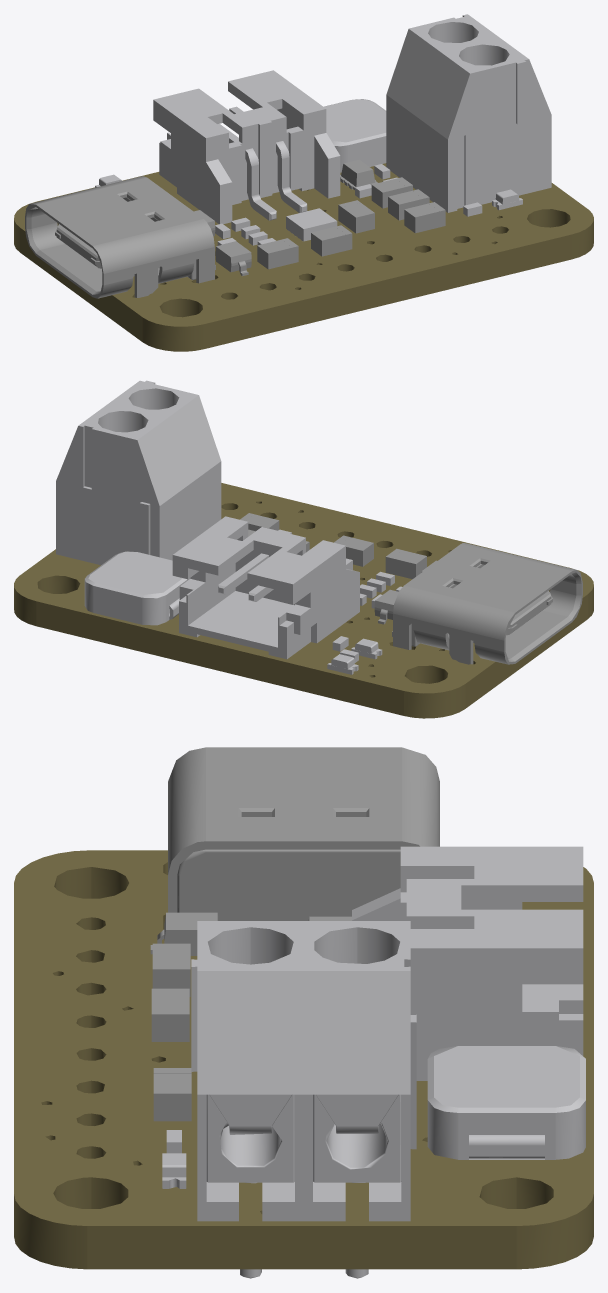
File: ada-6106.glb
3 renders of one model, top to bottom at view 1: azimuth 30°, elevation 25°; view 2: azimuth 150°, elevation 25°; view 3: azimuth 270°, elevation 25°, orthographic. The views are drawn at different scales.
Parts seen in each view (by area): view 1: 0.5833333333333334_0.5833333333333334_0.5833333333333334_0.8, 0.16666666666666666_0.16666666666666666_0.08333333333333333_, 0.3333333333333333_0.3333333333333333_0.3333333333333333_0; view 2: 0.5833333333333334_0.5833333333333334_0.5833333333333334_0.8, 0.16666666666666666_0.16666666666666666_0.08333333333333333_, 0.3333333333333333_0.3333333333333333_0.3333333333333333_0; view 3: 0.5833333333333334_0.5833333333333334_0.5833333333333334_0.8, 0.16666666666666666_0.16666666666666666_0.08333333333333333_, 0.3333333333333333_0.3333333333333333_0.3333333333333333_0.
Part boxes in pixels (left/top/right/bottom): 0.5833333333333334_0.5833333333333334_0.5833333333333334_0.8: left=95, top=14, right=551, bottom=245; 0.16666666666666666_0.16666666666666666_0.08333333333333333_: left=14, top=163, right=593, bottom=351; 0.3333333333333333_0.3333333333333333_0.3333333333333333_0: left=25, top=159, right=445, bottom=298; 0.5833333333333334_0.5833333333333334_0.5833333333333334_0.8: left=56, top=380, right=402, bottom=674; 0.16666666666666666_0.16666666666666666_0.08333333333333333_: left=14, top=483, right=593, bottom=718; 0.3333333333333333_0.3333333333333333_0.3333333333333333_0: left=240, top=513, right=582, bottom=664; 0.5833333333333334_0.5833333333333334_0.5833333333333334_0.8: left=162, top=846, right=585, bottom=1278; 0.16666666666666666_0.16666666666666666_0.08333333333333333_: left=14, top=850, right=593, bottom=1269; 0.3333333333333333_0.3333333333333333_0.3333333333333333_0: left=150, top=747, right=439, bottom=1121.
Size of the model in its own units: 3.03 by 1.19 by 1.91.
